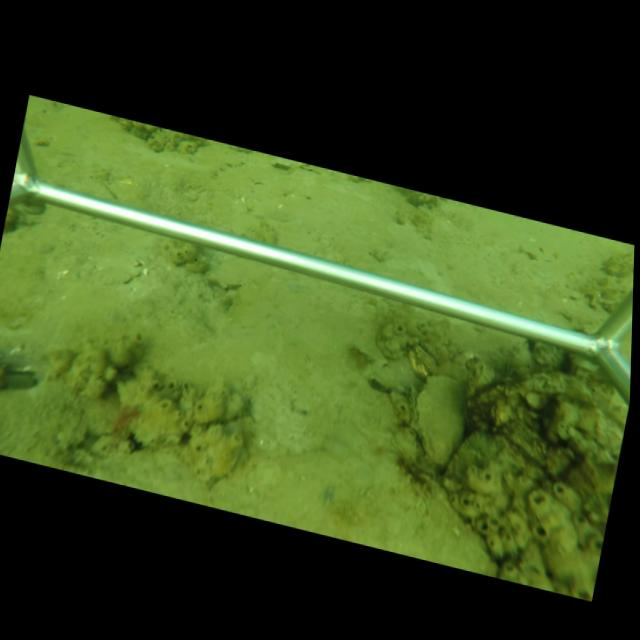Oyster-Closed: (415, 374, 468, 469), (407, 386, 417, 424)
Oyster-Indeterminate: (206, 256, 274, 290)
